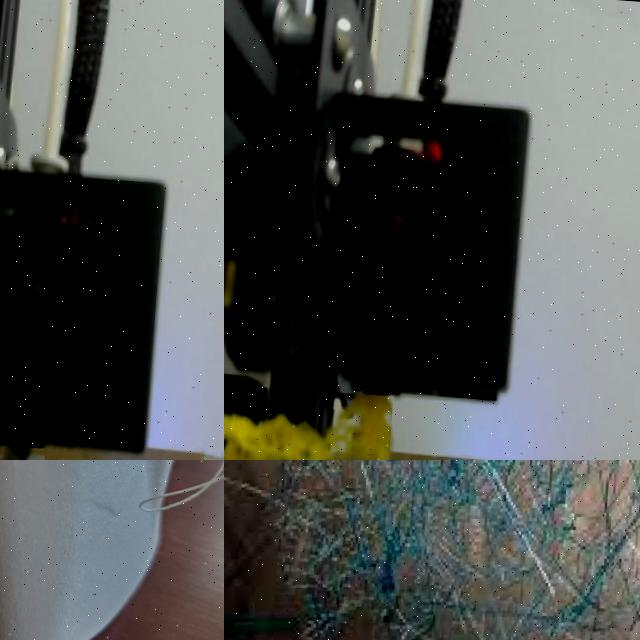spaghetti: (257, 460, 640, 640), (224, 394, 391, 460)
